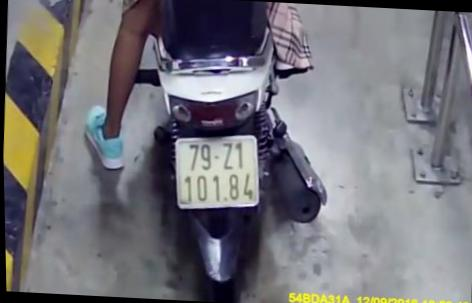LP: (171, 131, 262, 212)
